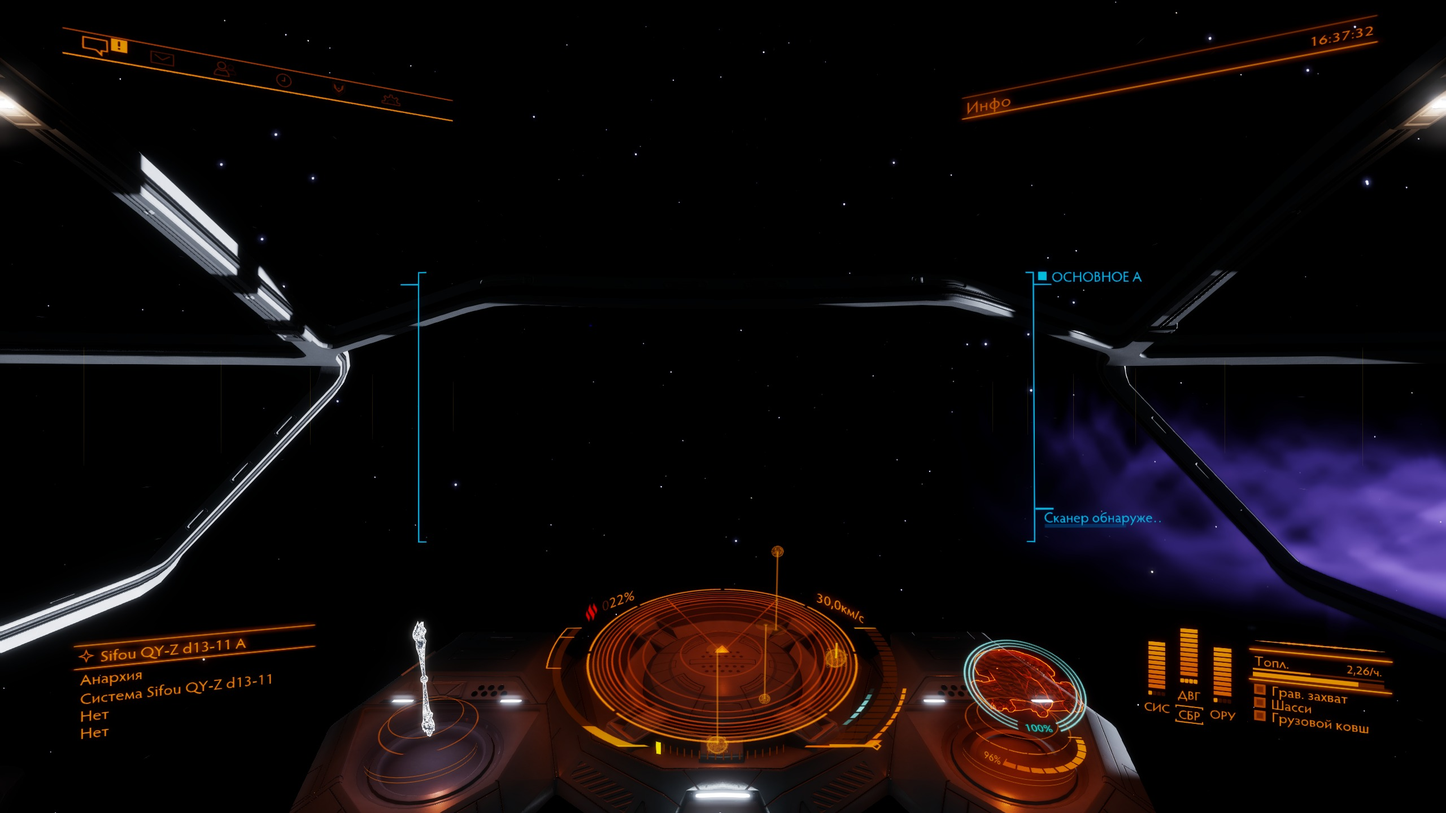jetcone: (1050, 415, 1446, 627)
